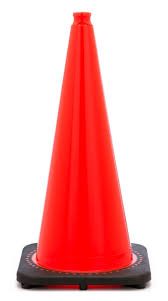cones: (12, 11, 156, 295)
